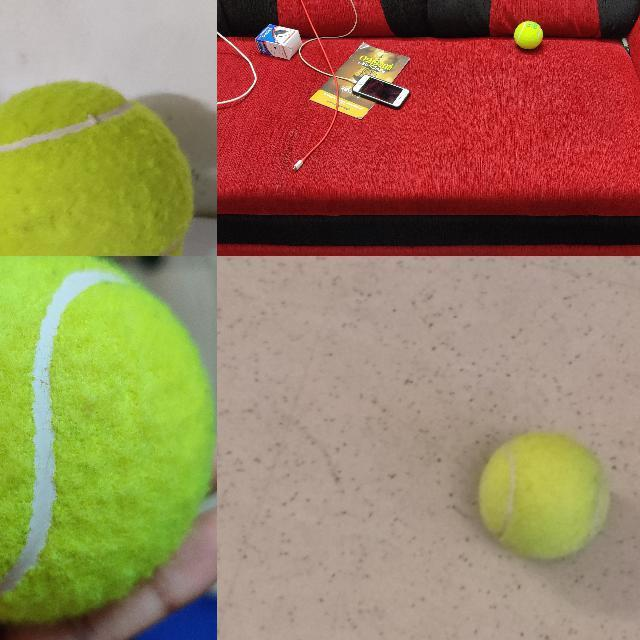tennis-ball: (0, 256, 212, 618), (0, 77, 199, 255), (476, 430, 610, 560), (514, 21, 542, 49)
